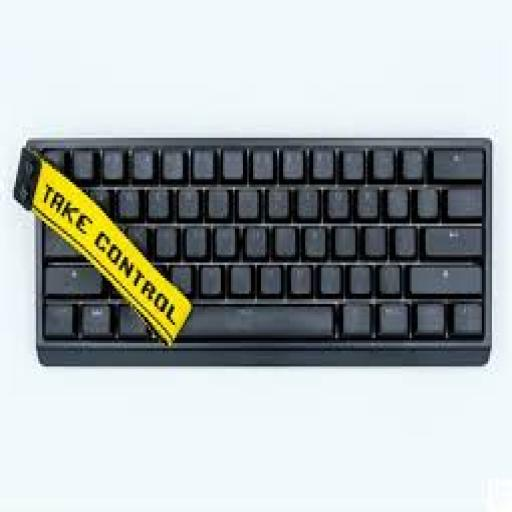KEYBOARD-2: (12, 138, 494, 364)
